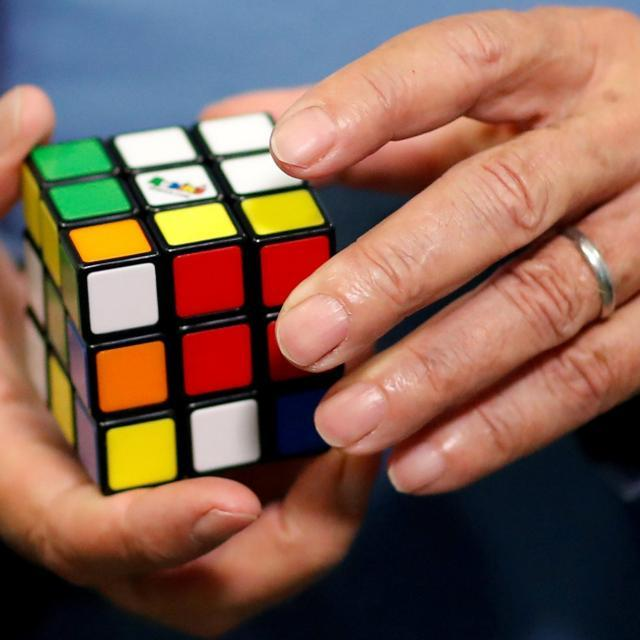Rub: (15, 111, 362, 501)
